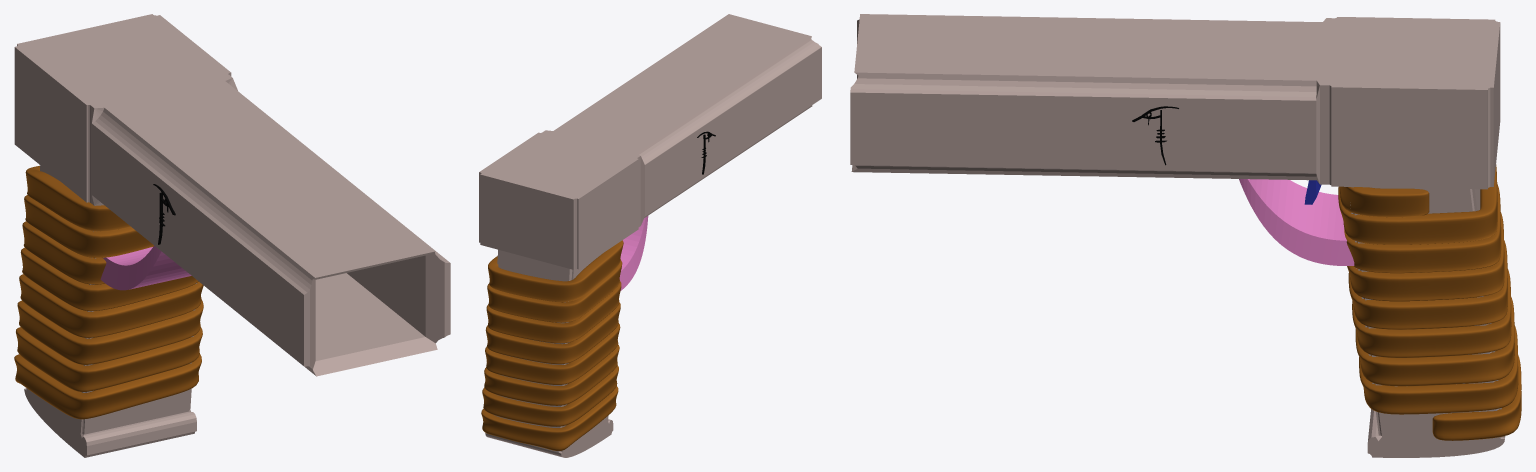
The model's file is main_character (copy).glb.
The picture shows the model from 3 angles, left to right: view 1: azimuth 30°, elevation 25°; view 2: azimuth 150°, elevation 25°; view 3: azimuth 270°, elevation 25°; orthographic projection. The views are drawn at different scales.
Parts seen in each view (by area): view 1: Cube.001, strip002, Cube.002; view 2: Cube.001, strip002, Cube.002; view 3: Cube.001, strip002, Cube.002.
Part boxes in pixels (x1,y1,x2,y2): Cube.001: [14, 14, 450, 457]; strip002: [14, 165, 203, 419]; Cube.002: [100, 245, 191, 290]; Cube.001: [479, 14, 821, 457]; strip002: [481, 240, 623, 450]; Cube.002: [619, 216, 648, 290]; Cube.001: [850, 14, 1505, 457]; strip002: [1338, 164, 1521, 440]; Cube.002: [1239, 179, 1356, 268].
Size of the model in its own units: 3.08 by 6.6 by 10.62.
